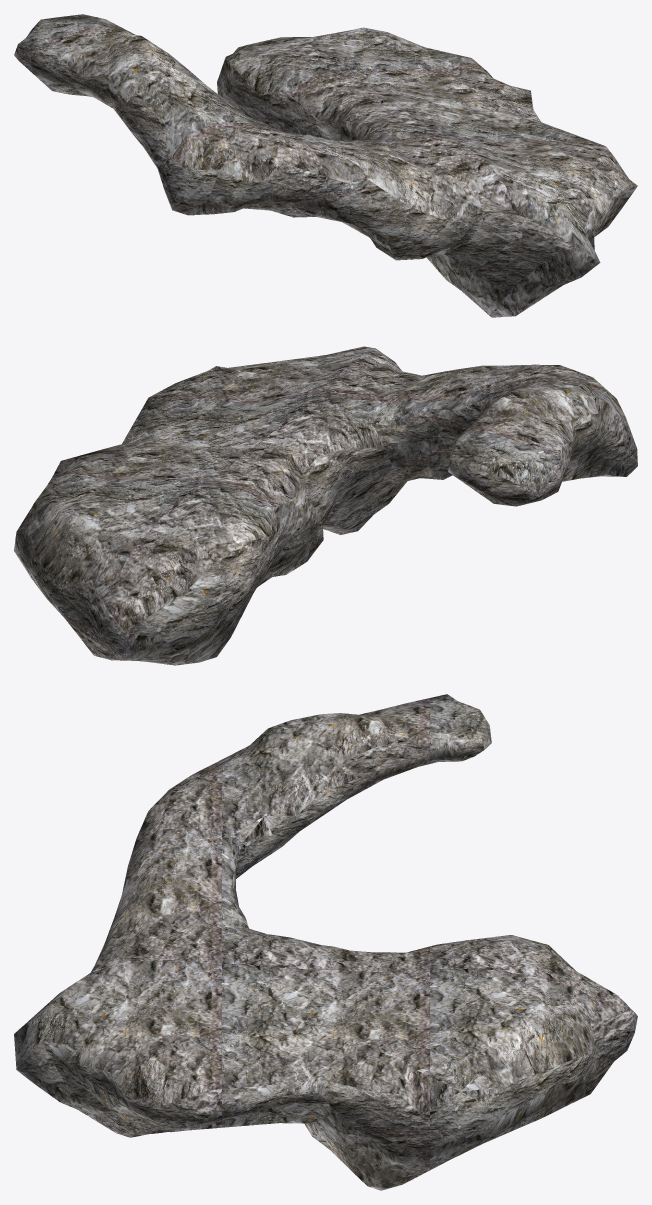
Rendered from rock2.obj.
The picture shows the model from 3 angles, top to bottom: view 1: azimuth 30°, elevation 25°; view 2: azimuth 150°, elevation 25°; view 3: azimuth 270°, elevation 25°; orthographic projection. The views are drawn at different scales.
Parts seen in each view (by area): view 1: Group17582; view 2: Group17582; view 3: Group17582.
Boxes of the visible parts, x1,y1,x2,y2 form: Group17582: [14, 14, 637, 317]; Group17582: [14, 346, 637, 665]; Group17582: [14, 694, 637, 1190].
Size of the model in its own units: 578 by 324 by 601.
